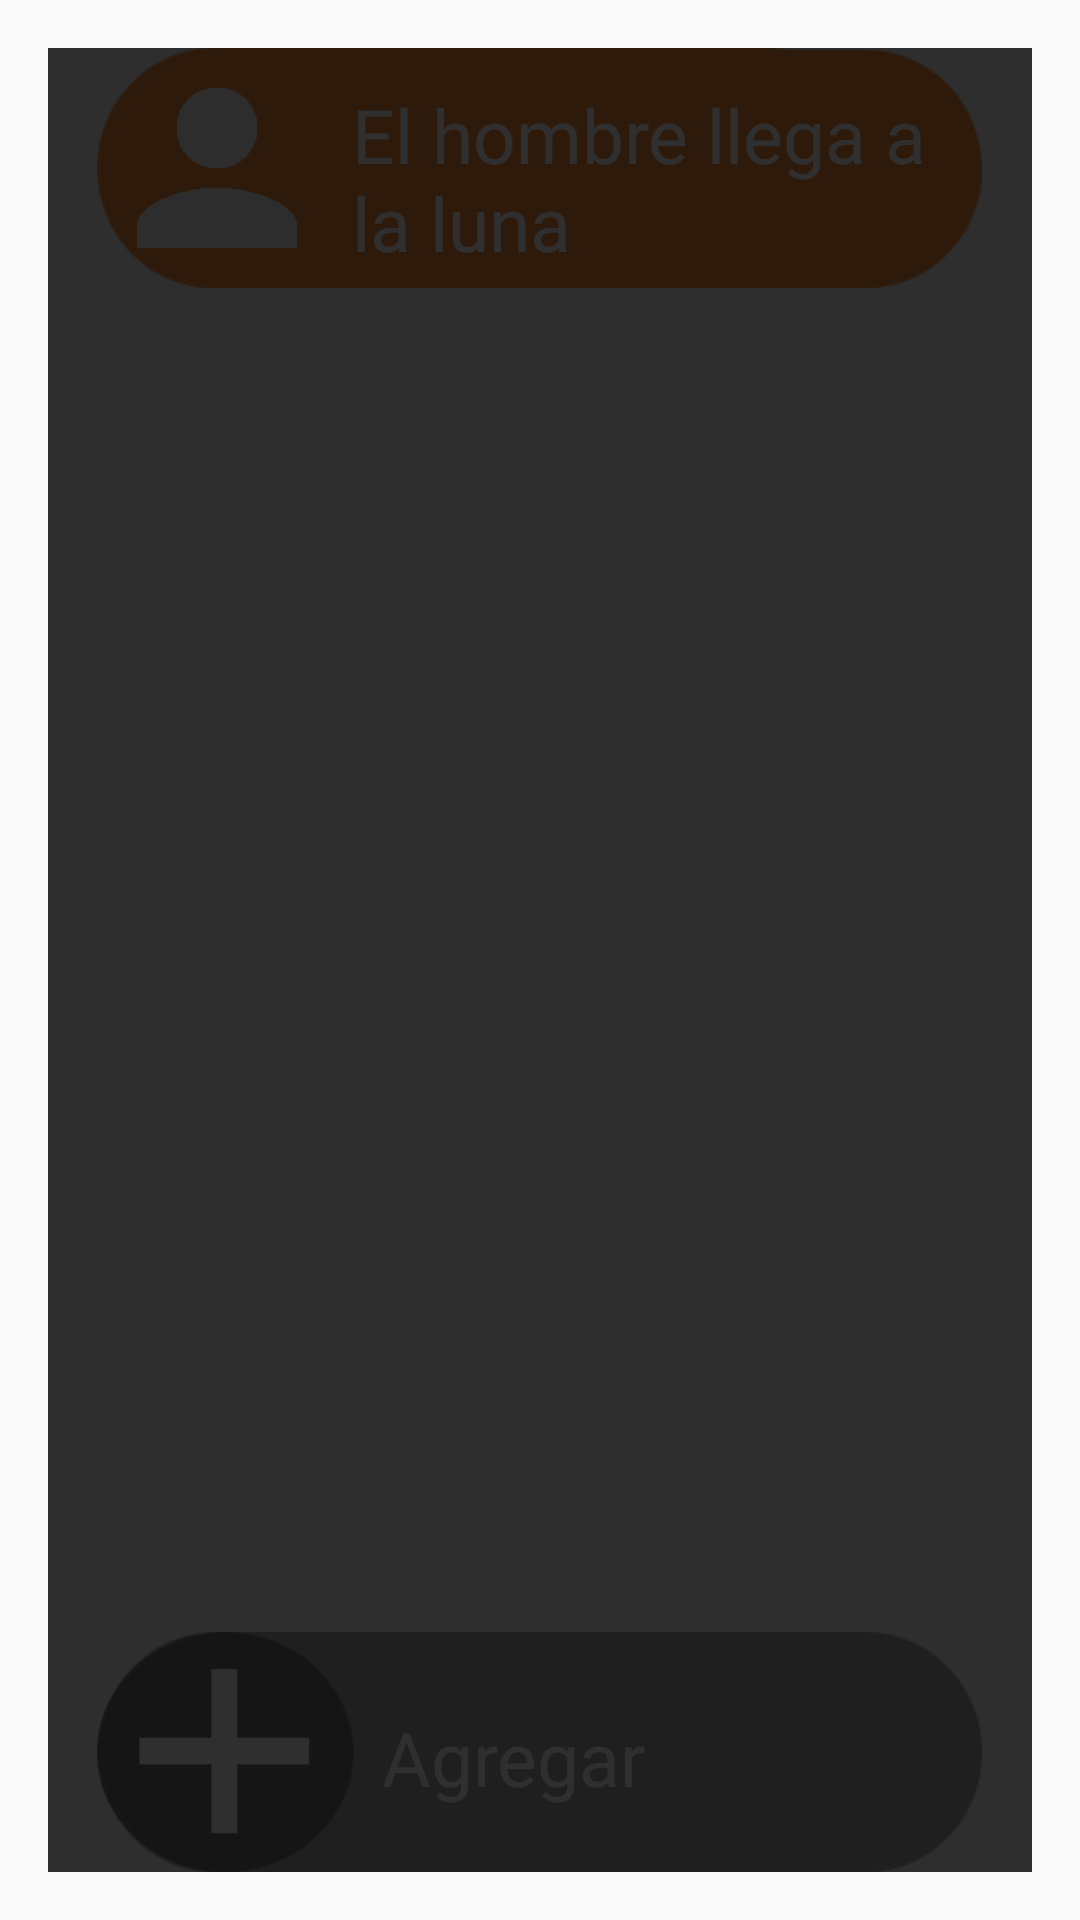

Icon click points for this 1080 × 1920 phone screenshot, format (x=x, y=y):
usuario: (x=217, y=168)
